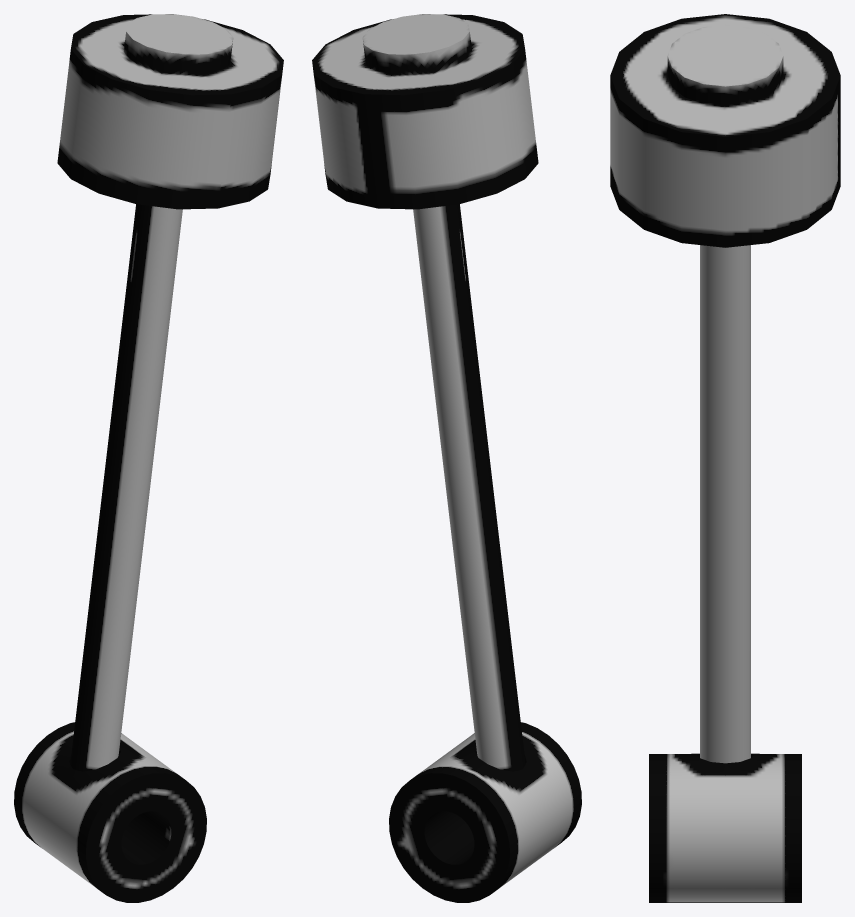
File: drumsetV4_OtherStands001.obj
The picture shows the model from 3 angles, left to right: view 1: azimuth 30°, elevation 25°; view 2: azimuth 150°, elevation 25°; view 3: azimuth 270°, elevation 25°; orthographic projection. The views are drawn at different scales.
Parts seen in each view (by area): view 1: drumsetV4_OtherStands001_Cylinder.035; view 2: drumsetV4_OtherStands001_Cylinder.035; view 3: drumsetV4_OtherStands001_Cylinder.035.
Boxes of the visible parts, x1,y1,x2,y2 form: drumsetV4_OtherStands001_Cylinder.035: (14,14,283,902); drumsetV4_OtherStands001_Cylinder.035: (312,14,581,902); drumsetV4_OtherStands001_Cylinder.035: (610,14,840,902).
Size of the model in its own units: 0.1771 by 0.6369 by 0.1506.
